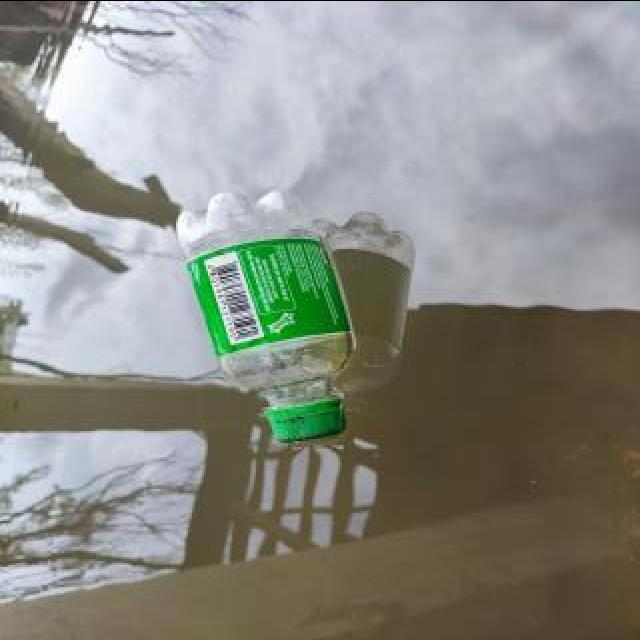Bottle: (167, 181, 365, 459)
